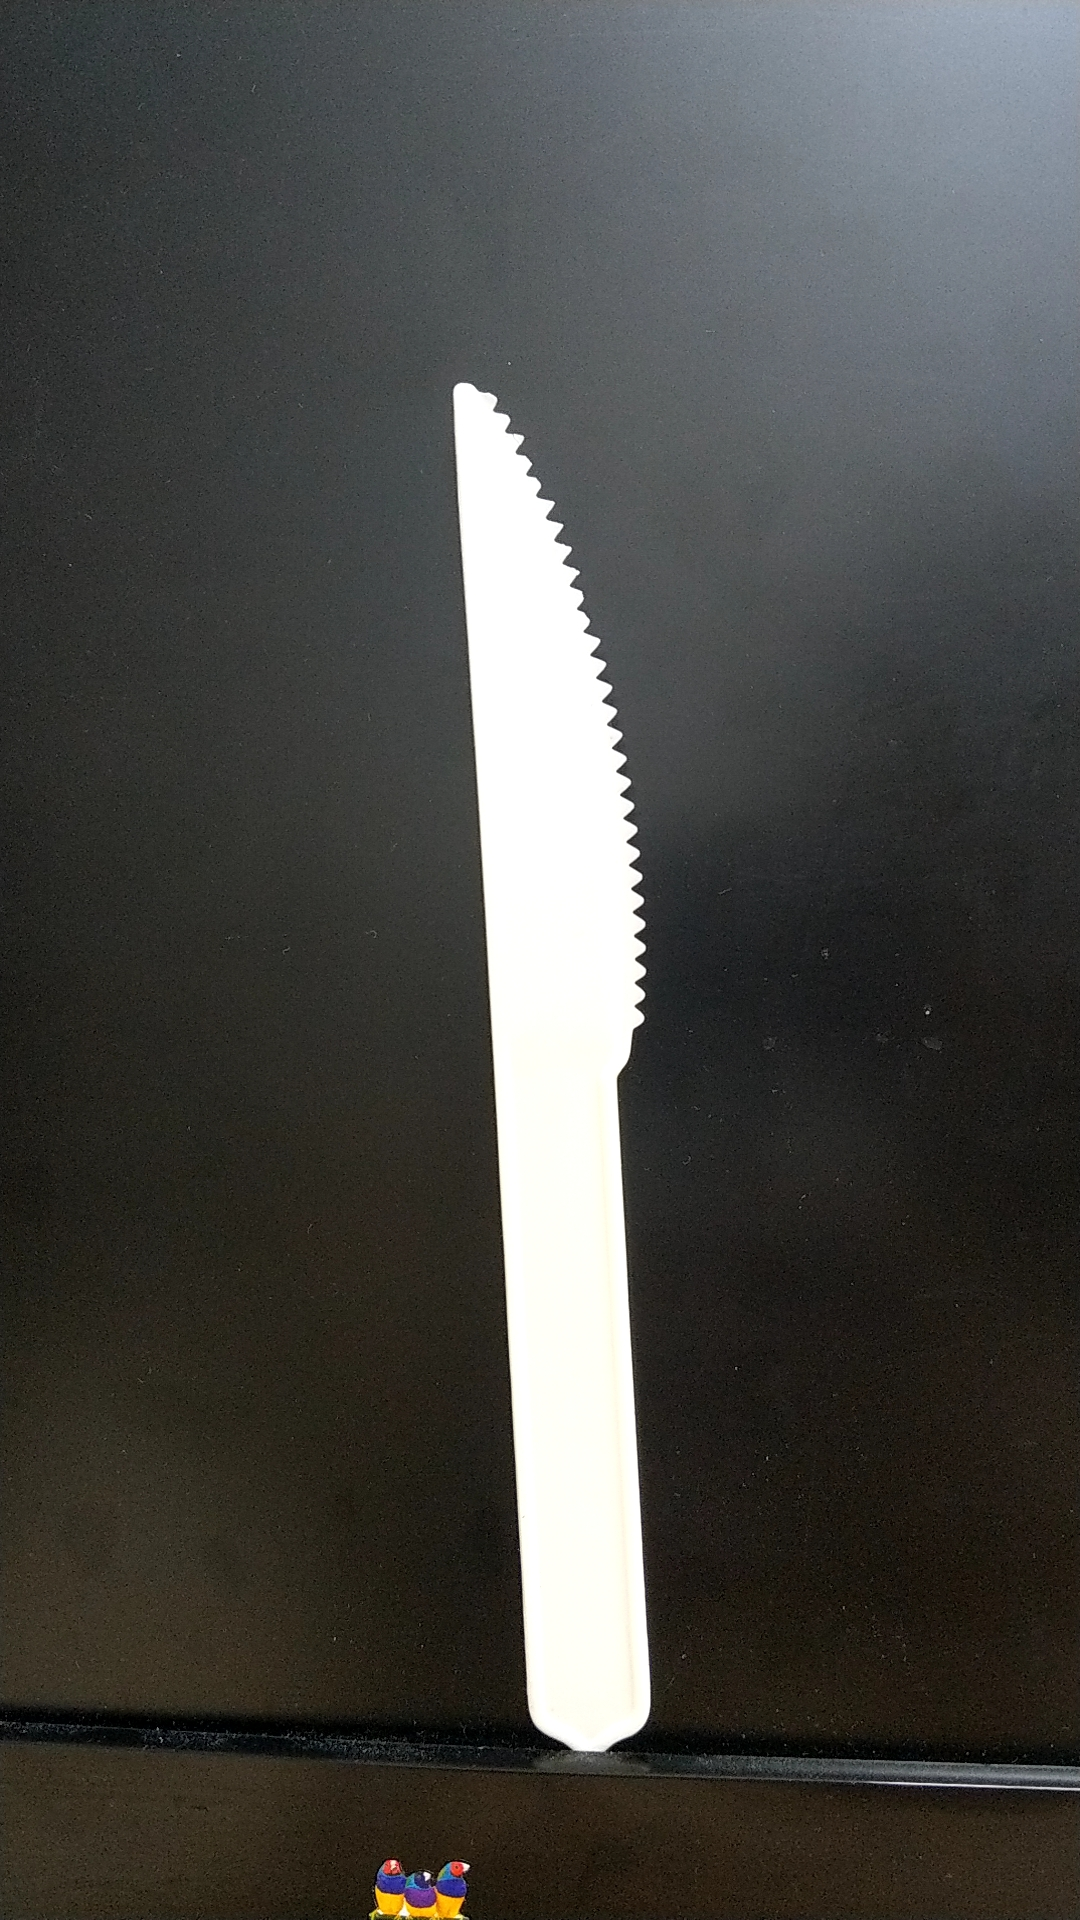knife: (398, 353, 731, 1760)
